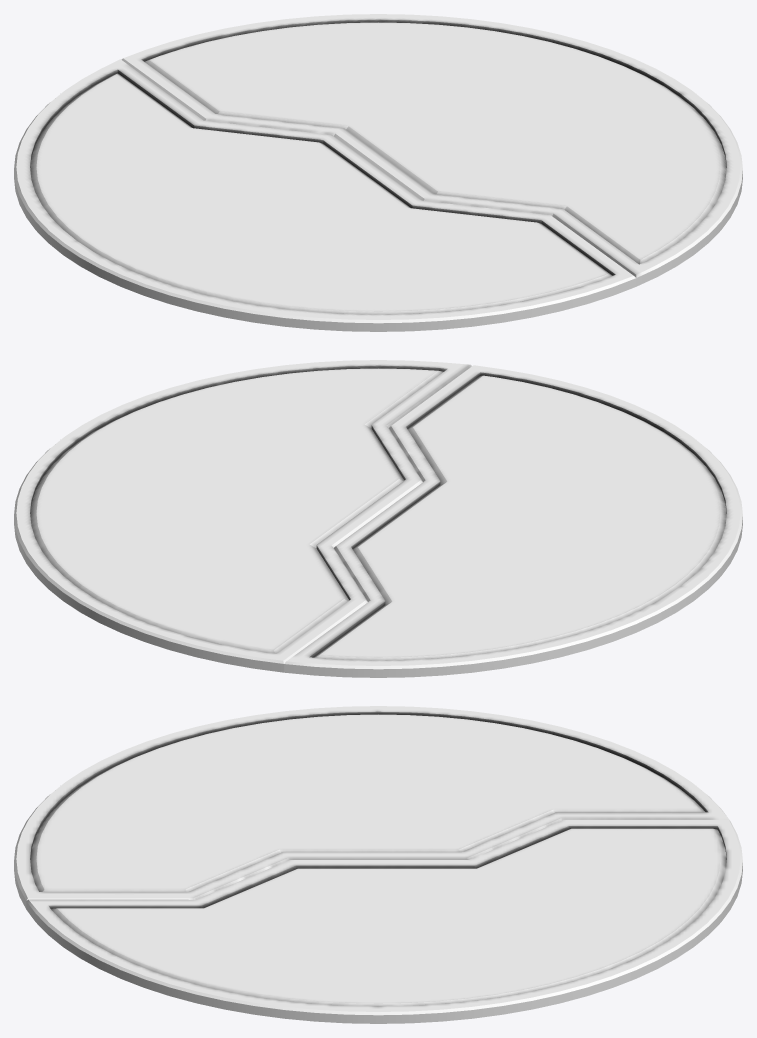
The model's file is liftDoor.FBX.
3 views of the same model, one above another, from view 1: azimuth 30°, elevation 25°; view 2: azimuth 150°, elevation 25°; view 3: azimuth 270°, elevation 25° (orthographic).
Parts seen in each view (by area): view 1: Object064, Object065; view 2: Object064, Object065; view 3: Object065, Object064.
Part boxes in pixels (x1,y1,x2,y2): Object064: [14, 59, 636, 331]; Object065: [121, 14, 742, 286]; Object064: [284, 365, 742, 677]; Object065: [14, 360, 471, 672]; Object065: [26, 820, 742, 1023]; Object064: [14, 706, 729, 908].
Size of the model in its own units: 909 by 15 by 909.
1 material, 1 textured.
